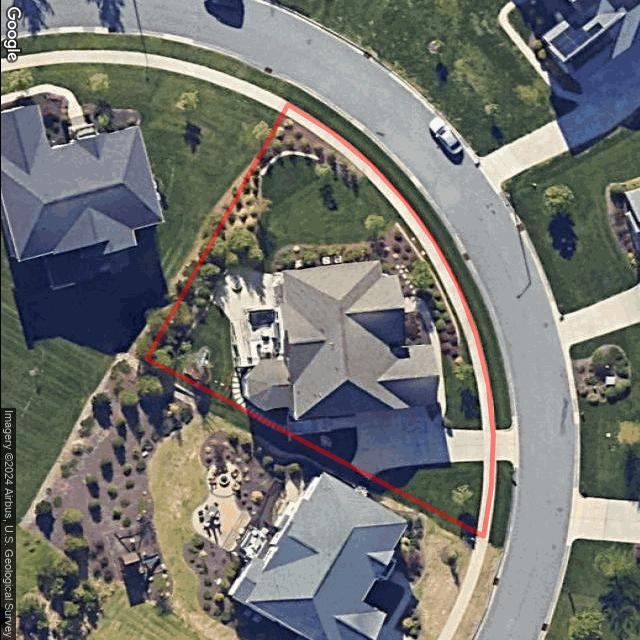Driveway: (347, 407, 492, 480)
Extra-Driveway: (491, 425, 513, 464)
Extra-Lawn: (288, 88, 511, 429), (488, 461, 513, 548)
Extra-Sidewalk: (482, 460, 496, 541)
House: (241, 259, 439, 421)
Lawn: (144, 108, 490, 538)
Other: (150, 116, 365, 383), (269, 214, 460, 377), (206, 251, 284, 368), (230, 366, 272, 426), (285, 412, 355, 438), (403, 312, 431, 346), (449, 483, 471, 504), (426, 405, 439, 421)
Sidewalk: (282, 102, 495, 430), (401, 296, 445, 425), (476, 460, 490, 535)
